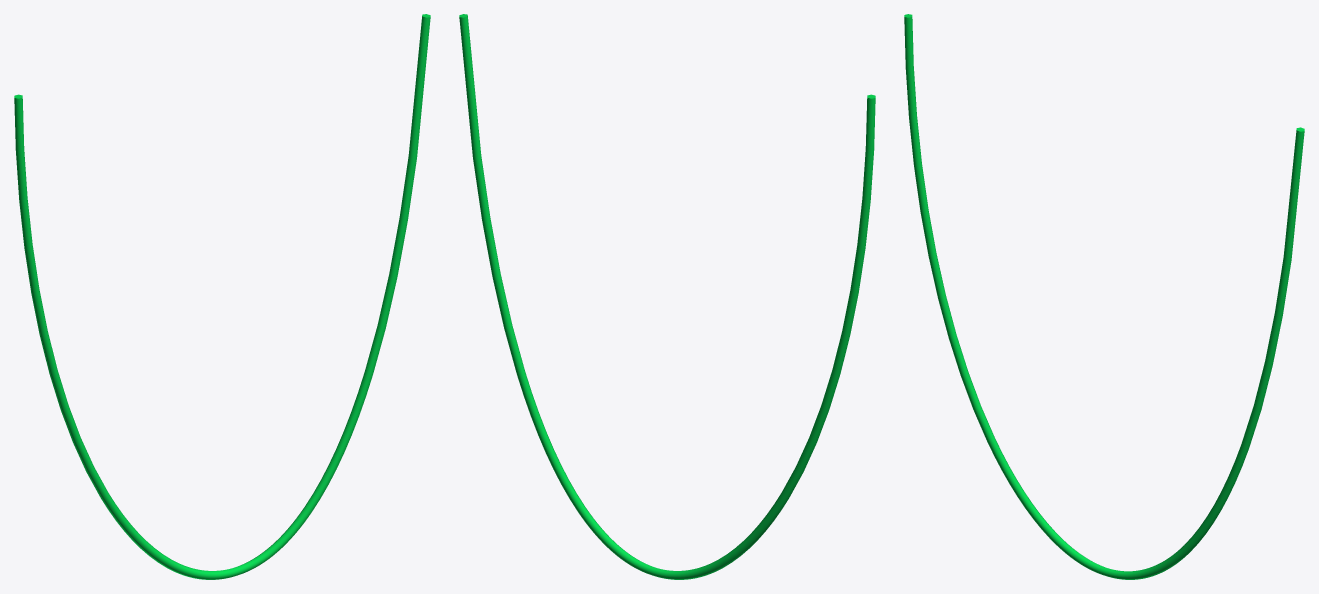
Rendered from Cable02.fbx.
3 views of the same model, side by side, from view 1: azimuth 30°, elevation 25°; view 2: azimuth 150°, elevation 25°; view 3: azimuth 330°, elevation 25° (orthographic). The views are drawn at different scales.
Parts seen in each view (by area): view 1: Cable02; view 2: Cable02; view 3: Cable02.
Boxes of the visible parts, x1,y1,x2,y2 form: Cable02: (14, 14, 430, 579); Cable02: (459, 14, 875, 579); Cable02: (904, 14, 1304, 579).
Size of the model in its own units: 396 by 484 by 6.93.
